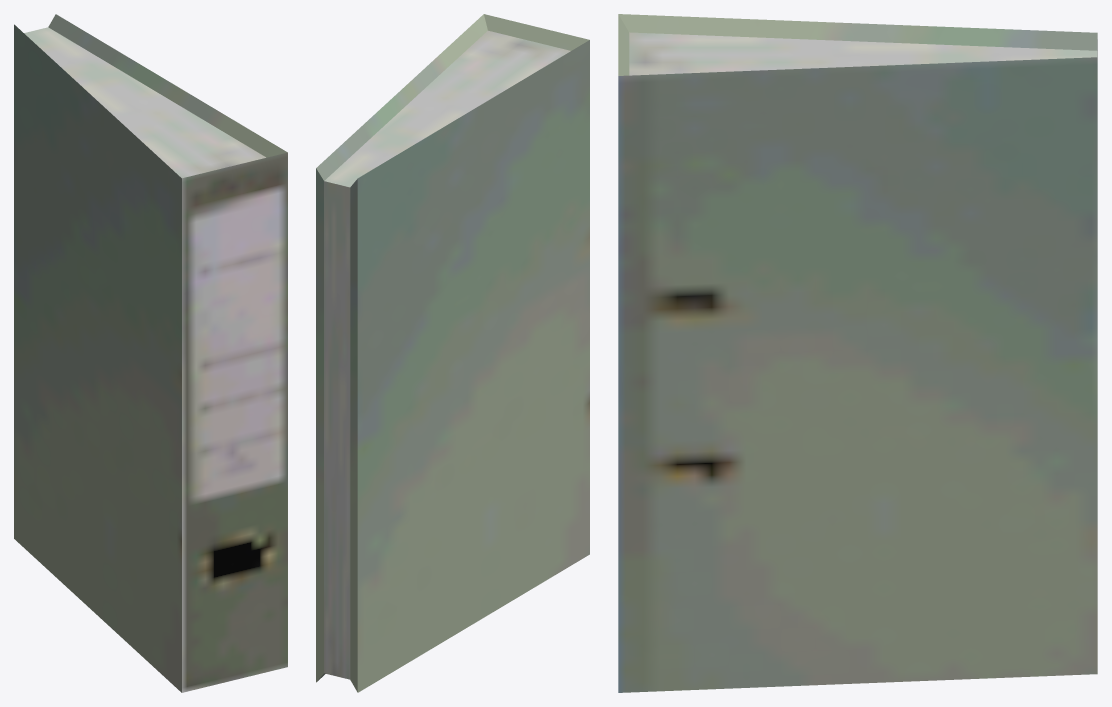
The model's file is file_binder_alt5.obj.
3 views of the same model, side by side, from view 1: azimuth 30°, elevation 25°; view 2: azimuth 150°, elevation 25°; view 3: azimuth 270°, elevation 25° (orthographic). The views are drawn at different scales.
Visible parts, largest first — view 1: file_binder_alt5; view 2: file_binder_alt5; view 3: file_binder_alt5.
Part boxes in pixels (x1,y1,x2,y2): file_binder_alt5: (14,14,287,692); file_binder_alt5: (316,14,589,692); file_binder_alt5: (618,14,1097,692).
Size of the model in its own units: 0.0911 by 0.4225 by 0.2975.
